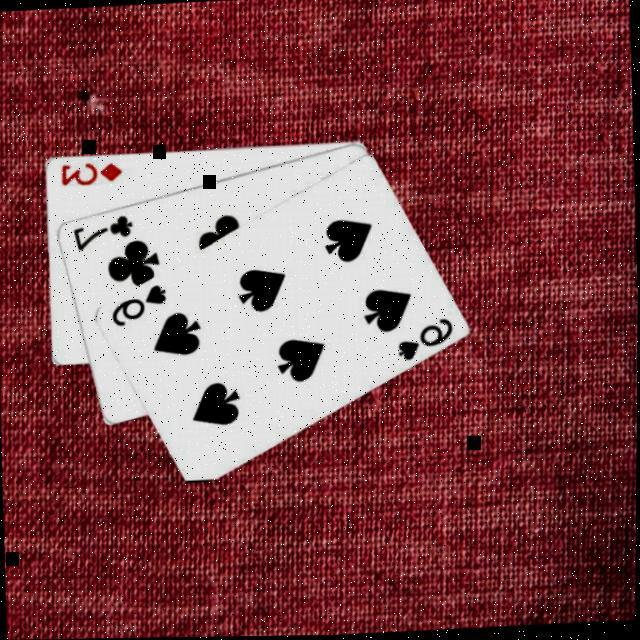3D: (59, 157, 126, 188)
6S: (394, 313, 458, 363), (108, 279, 171, 328)
7C: (71, 211, 138, 252)
